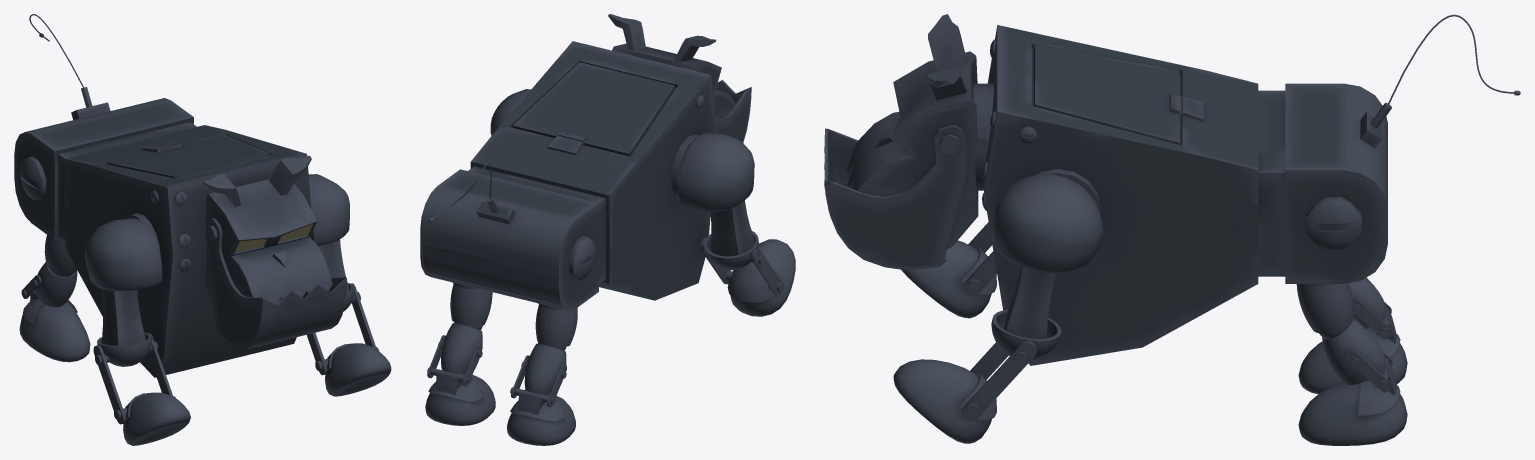
File: enemy_sprinter.glb
The picture shows the model from 3 angles, left to right: view 1: azimuth 30°, elevation 25°; view 2: azimuth 150°, elevation 25°; view 3: azimuth 270°, elevation 25°; orthographic projection. The views are drawn at different scales.
Parts seen in each view (by area): view 1: Material1 (×3); view 2: Material1 (×3); view 3: Material1 (×3).
Boxes of the visible parts, x1,y1,x2,y2 form: Material1 (×3): (14, 14, 391, 445); Material1 (×3): (420, 14, 795, 445); Material1 (×3): (824, 14, 1520, 445).
Size of the model in its own units: 619 by 679 by 1120.
Materials: 3 (3 with a texture image).
